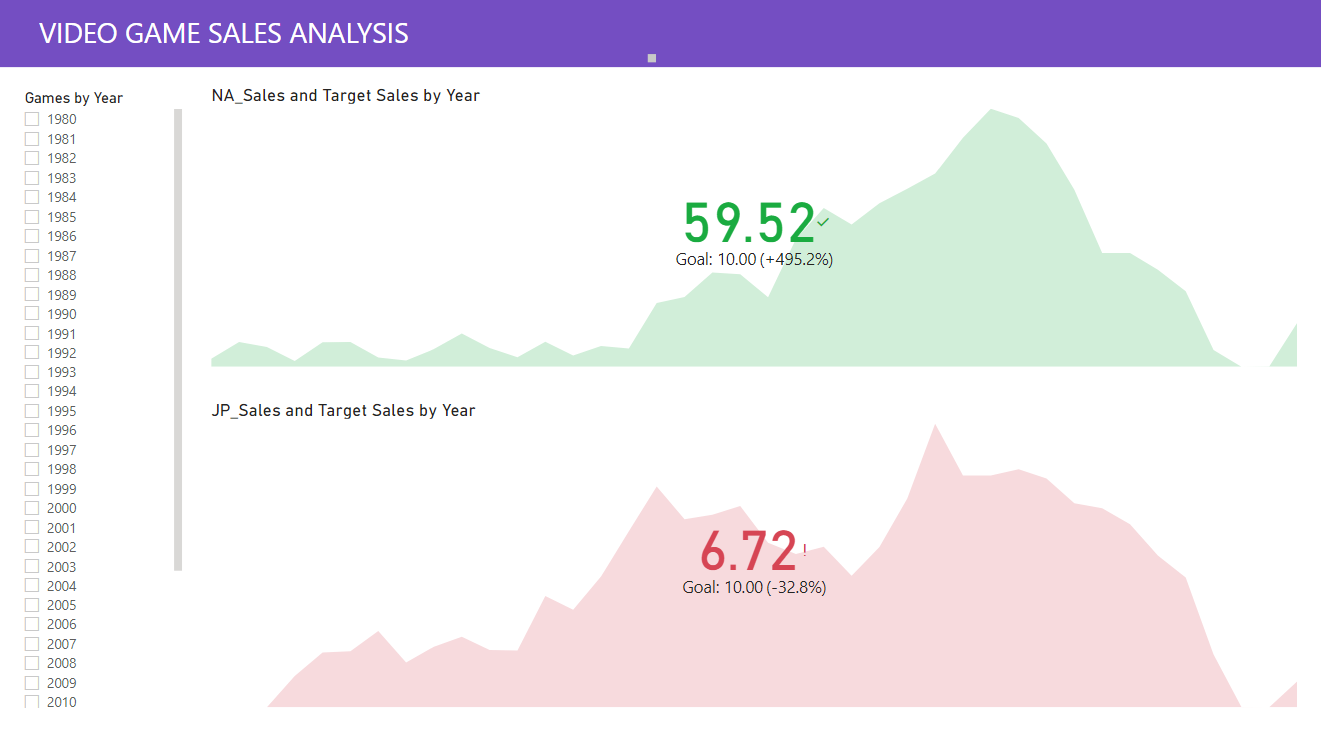

This screenshot's page, from the dashboard's own definition file:
{"tool":"powerbi","page":{"name":"Page 4","canvas":[1280,720],"ordinal":3},"visuals":[{"type":"shape","box":[0,0,1280.3,66.6],"z":0},{"type":"textbox","title":"VIDEO GAME SALES ANALYSIS","box":[32.7,13.3,607.5,53.2],"z":1000},{"type":"slicer","fields":{"Values":["vgsales.Year"]},"box":[10.9,82.3,170.6,608.7],"z":2000},{"type":"kpi","title":"NA_Sales and Target Sales by Year","fields":{"Indicator":["Sum(vgsales.NA_Sales)"],"TrendLine":["vgsales.Year"],"Goal":["Avg(vgsales.Target Sales)"]},"box":[199.7,82.3,1061.2,278.3],"z":3000},{"type":"kpi","title":"JP_Sales and Target Sales by Year","fields":{"Goal":["Avg(vgsales.Target Sales)"],"Indicator":["Sum(vgsales.JP_Sales)"],"TrendLine":["vgsales.Year"]},"box":[199.7,387.2,1061.2,303.7],"z":4000}]}

Visuals, with their boxes in screenshot pixels (x1, y1, x2, y2), scaled from the page's 1280x720 canvas onto the 1321x742 screenshot:
shape: Rect(0, 0, 1320, 69)
"VIDEO GAME SALES ANALYSIS" textbox: Rect(34, 14, 661, 69)
slicer - vgsales.Year: Rect(11, 85, 187, 712)
"NA_Sales and Target Sales by Year" kpi: Rect(206, 85, 1301, 372)
"JP_Sales and Target Sales by Year" kpi: Rect(206, 399, 1301, 712)
